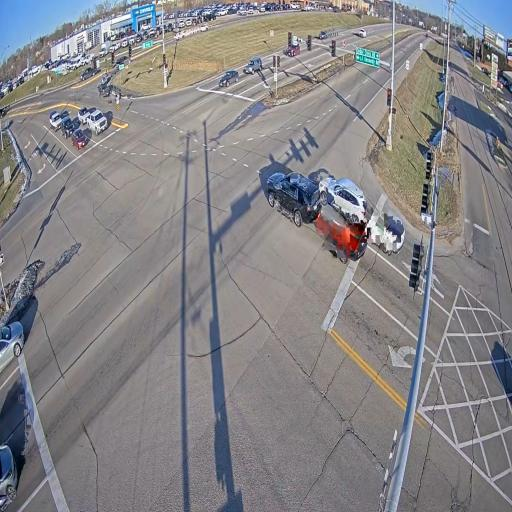pickup: (86, 109, 107, 135), (50, 110, 61, 130)
sedan: (0, 321, 25, 367), (71, 128, 87, 149), (219, 70, 238, 87), (78, 107, 90, 124), (80, 67, 93, 81), (318, 31, 327, 39)
suv: (267, 172, 321, 227), (319, 177, 366, 223), (0, 444, 18, 512), (61, 116, 79, 138), (244, 57, 262, 74), (284, 44, 300, 56), (359, 29, 366, 37)
